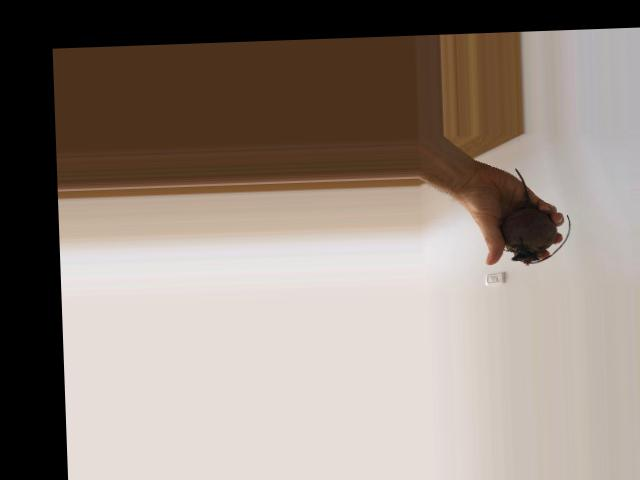beet: (500, 166, 572, 265)
